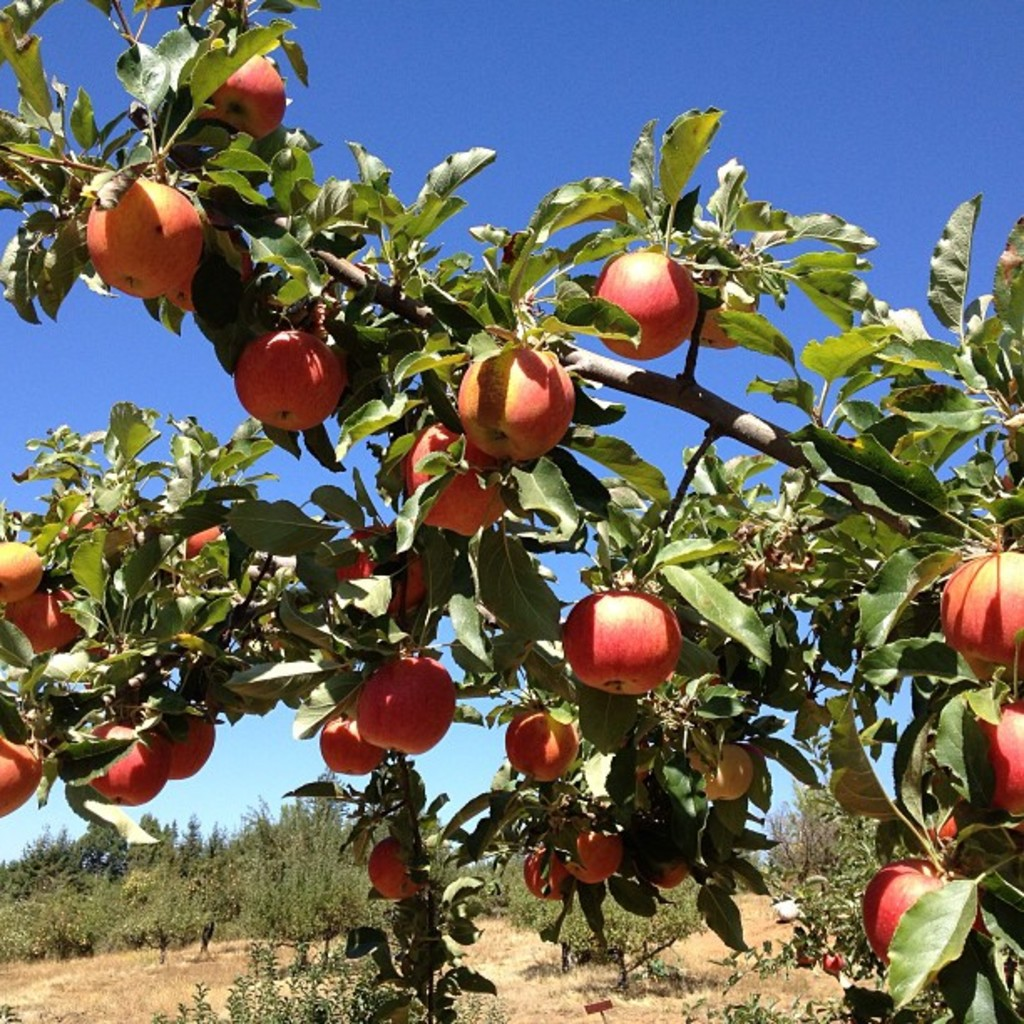Apple: (453, 343, 577, 461), (85, 177, 202, 297), (562, 585, 680, 701), (868, 863, 987, 977), (404, 421, 505, 548), (595, 254, 699, 361), (933, 550, 1022, 664), (363, 652, 456, 756), (165, 224, 257, 311), (195, 53, 287, 140), (83, 719, 170, 806), (339, 523, 421, 610), (498, 707, 580, 788), (61, 488, 135, 562), (975, 701, 1022, 814), (3, 587, 81, 654), (317, 716, 393, 778), (567, 811, 620, 890), (680, 294, 756, 349), (687, 747, 757, 806), (162, 706, 212, 786), (0, 729, 40, 821), (366, 839, 416, 898), (0, 545, 40, 607), (525, 848, 568, 898), (184, 528, 224, 558), (921, 809, 955, 843), (659, 863, 692, 890), (794, 952, 816, 972), (824, 950, 841, 973)
